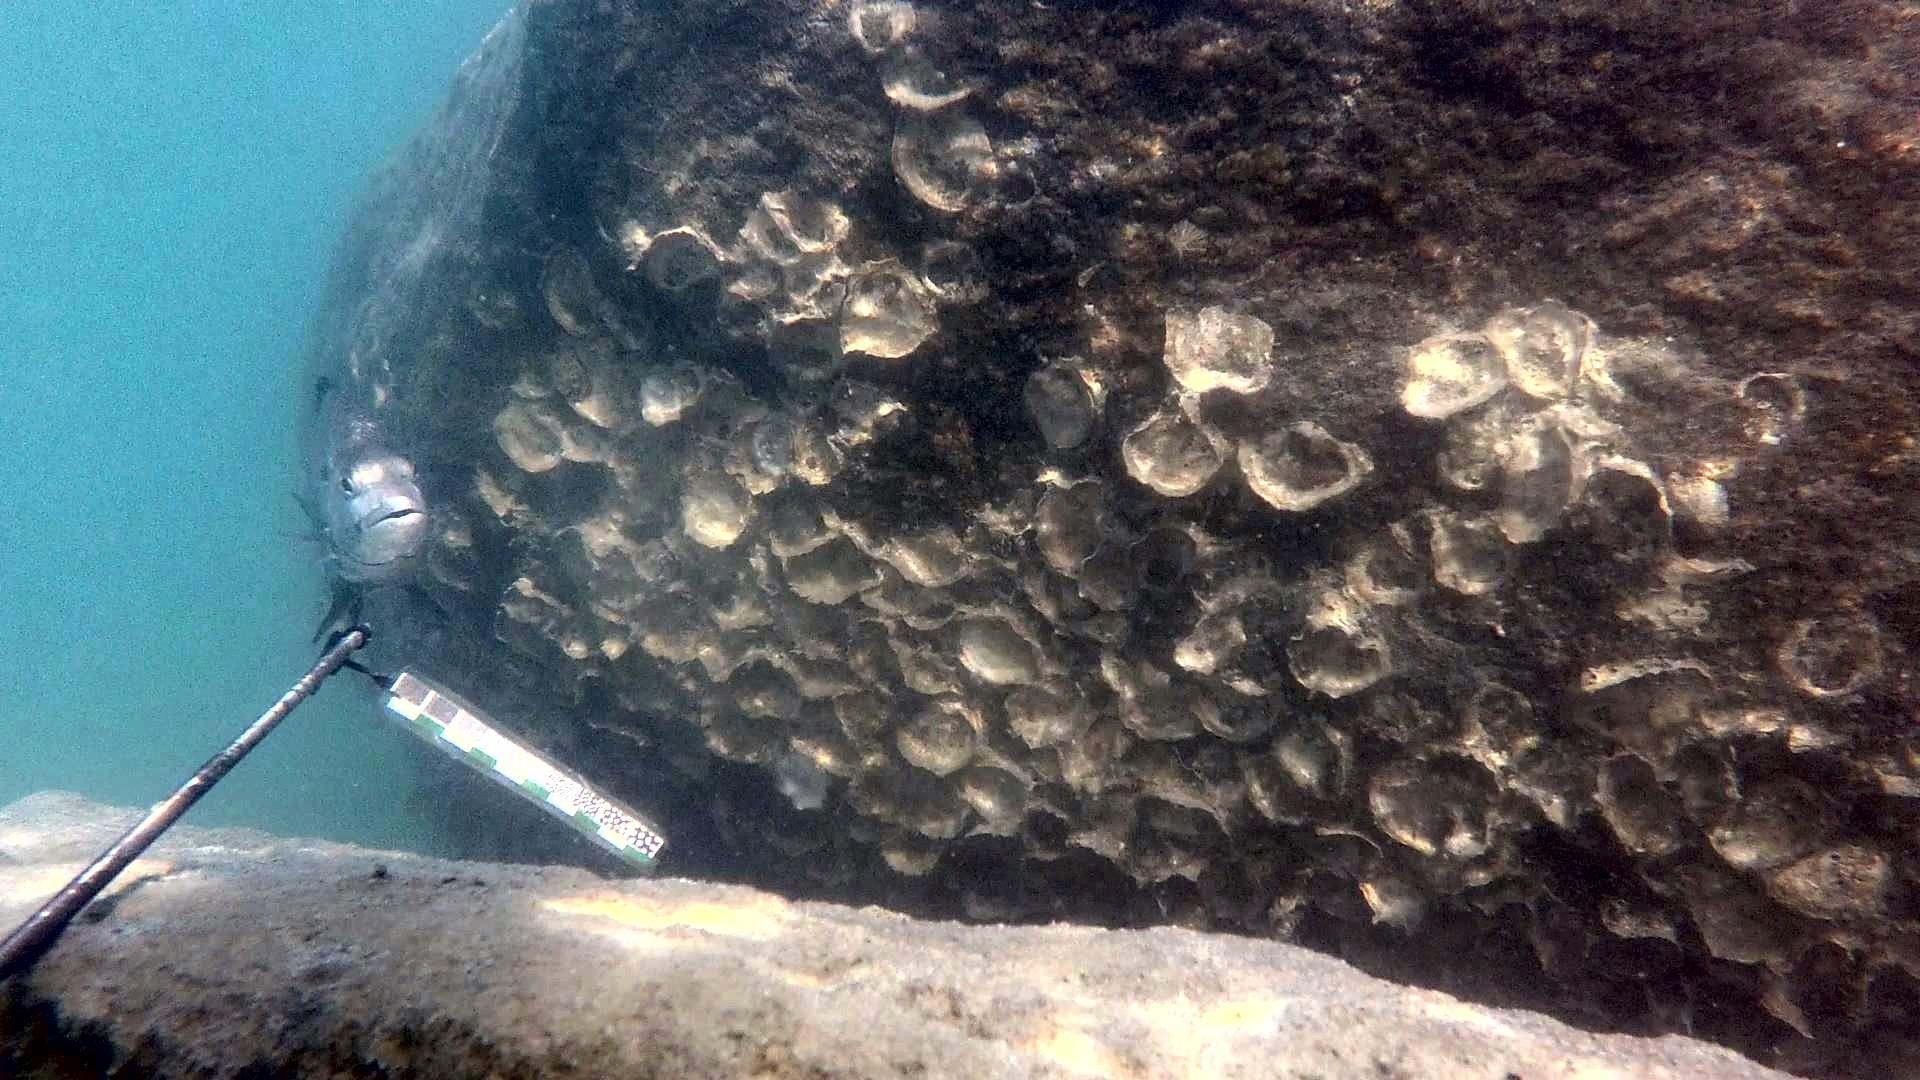acanthopagrus palmaris: (288, 350, 470, 644)
